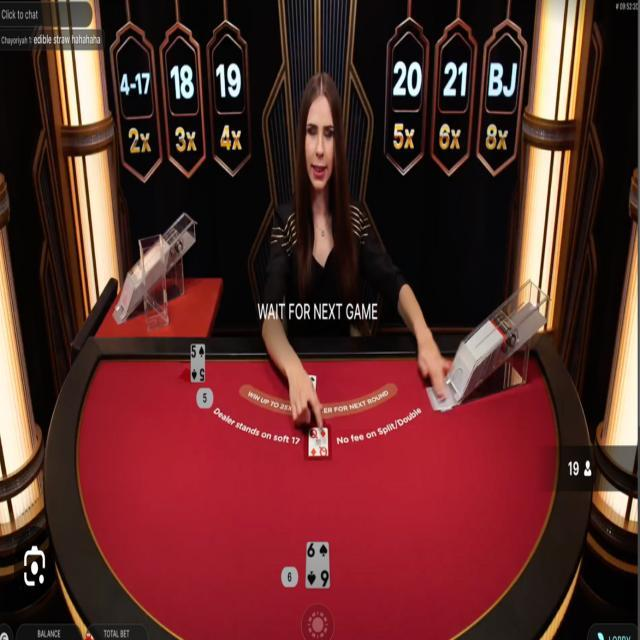Card-6: (305, 541, 330, 588)
Card-Q: (309, 427, 328, 456)
